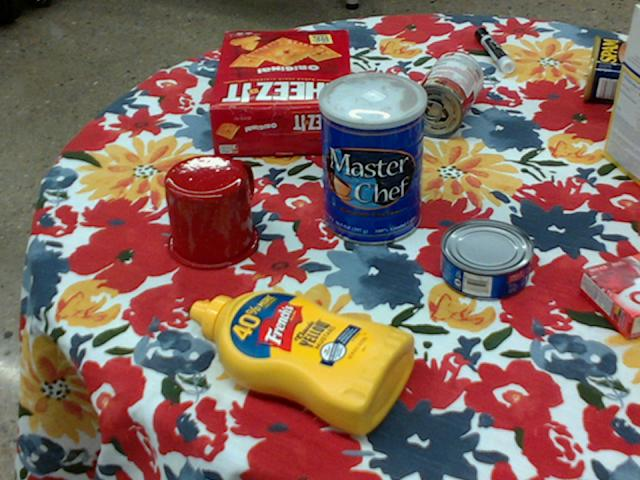cracker_box: (209, 30, 354, 153)
gelatin_box: (582, 254, 639, 339)
large_marker: (477, 27, 515, 72)
master_chef_can: (318, 70, 427, 245)
mug: (163, 153, 260, 269)
mustard_bottle: (190, 289, 417, 434)
potted_meat_can: (583, 33, 639, 104)
sugar_box: (603, 4, 639, 185)
tomato_soup_can: (409, 50, 483, 137)
tuna_fish_can: (442, 219, 536, 301)
